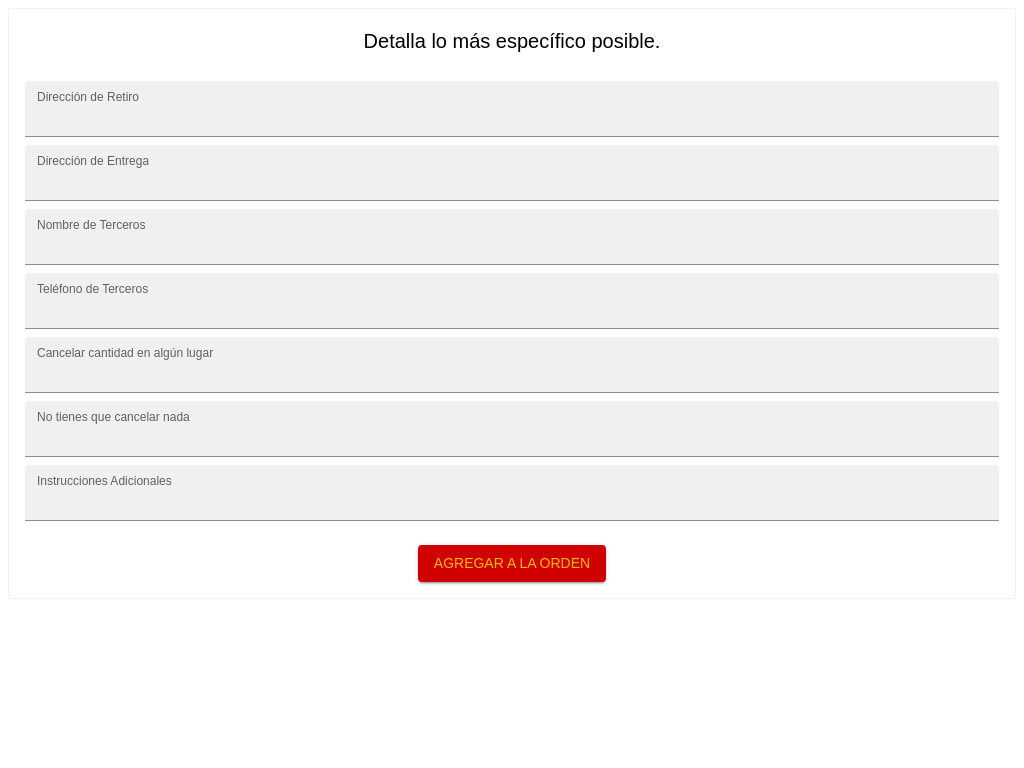
Test: presentation:components:organisms:little-errands-form:control › It should not submit the form if the [deliveryAddress] field is empty
Type "38.8951,-77.0364" into the field labelled "Dirección de Retiro" at (512, 109), box 25,81 -> 999,137
Type "Proveedor Tercero" into the field labelled "Nombre de Terceros" at (512, 237), box 25,209 -> 999,265
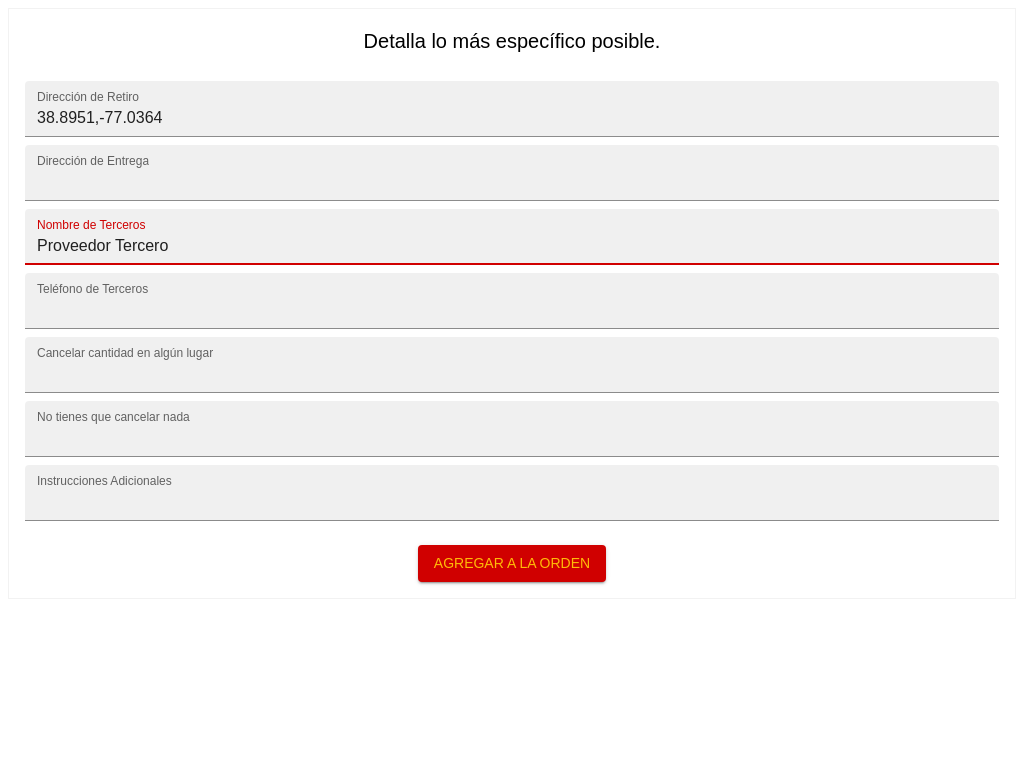
Type "53565223" into the field labelled "Teléfono de Terceros" at (512, 301), box 25,273 -> 999,329
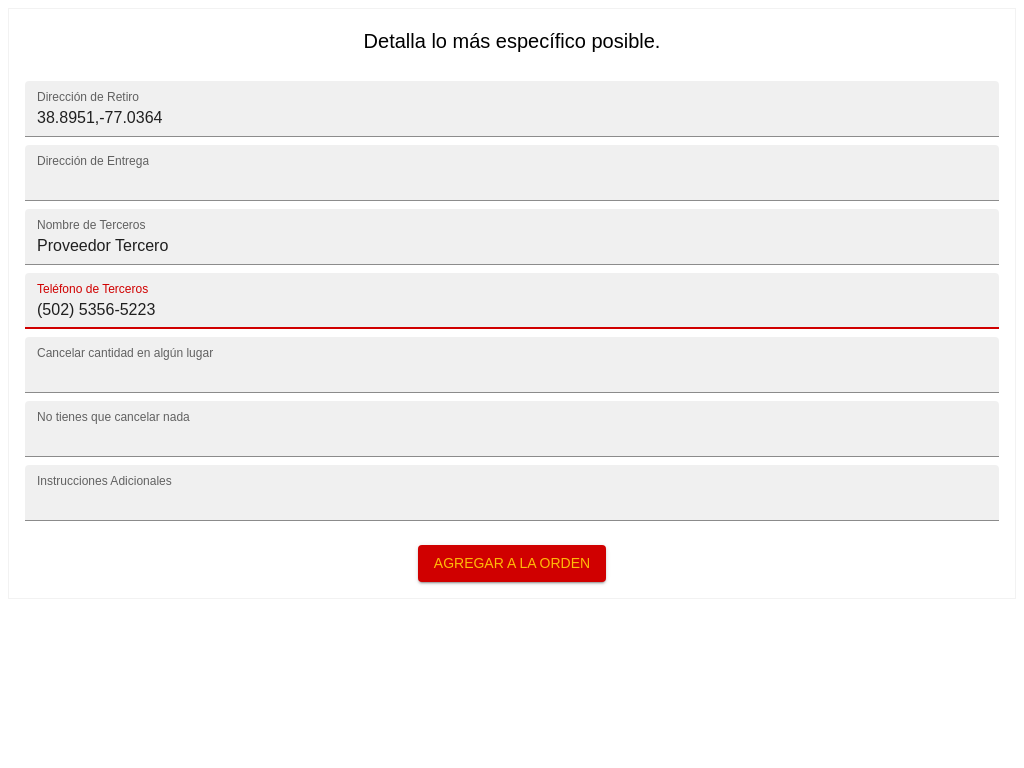
Type "100.00" into the field labelled "Cancelar cantidad en algún lugar" at (512, 365), box 25,337 -> 999,393
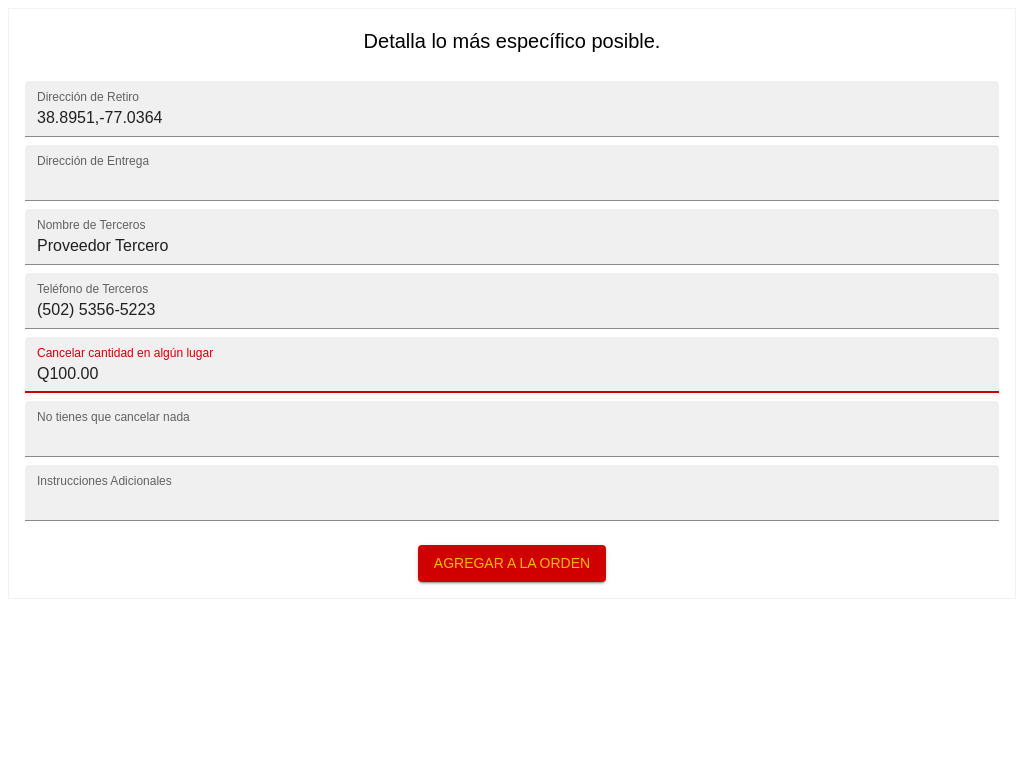
Type "NO" into the field labelled "No tienes que cancelar nada" at (512, 429), box 25,401 -> 999,457
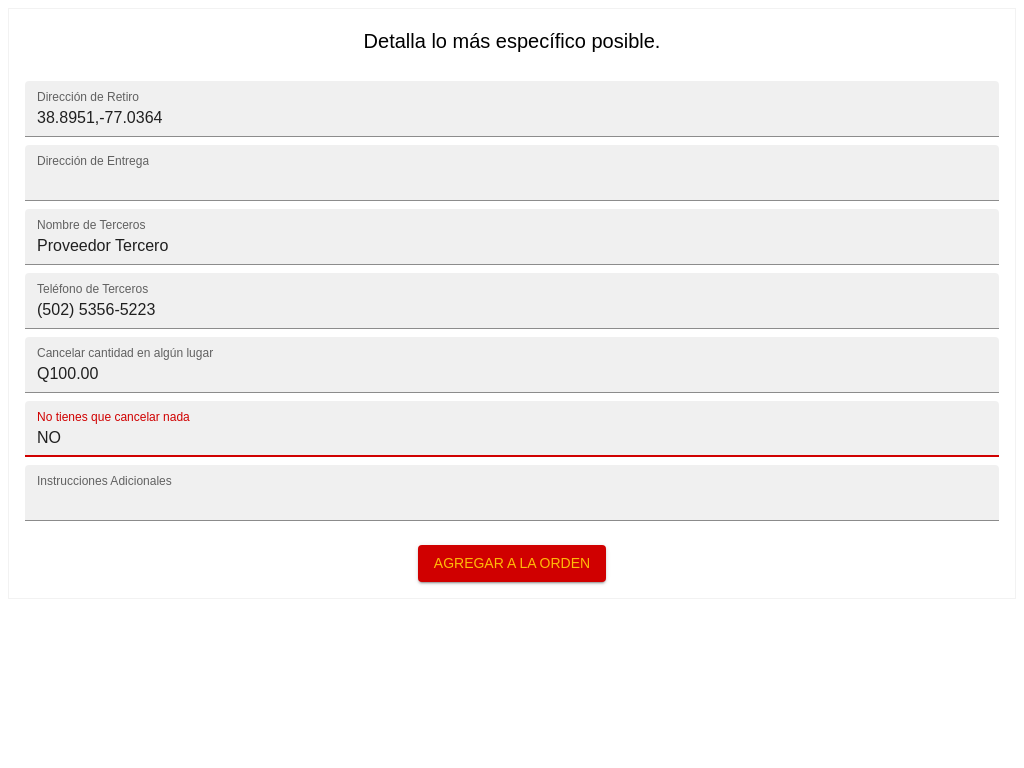
Type "Favor pedir factura 4123123-4" into the field labelled "Instrucciones Adicionales" at (512, 493), box 25,465 -> 999,521
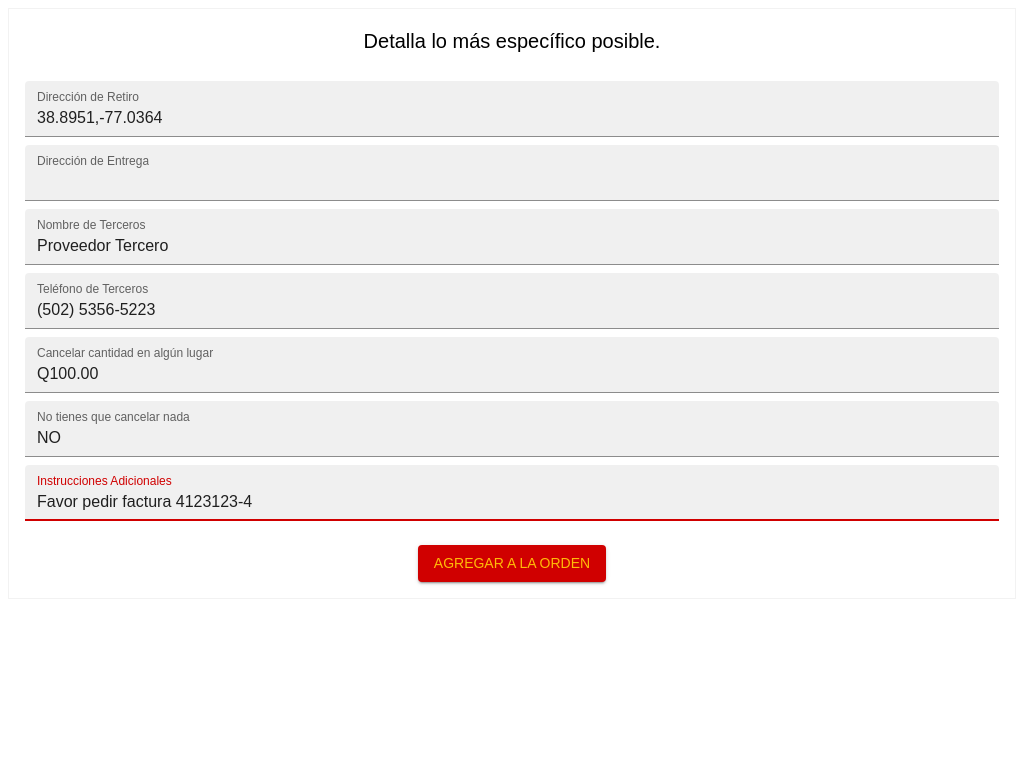
Click the button "Agregar a la Orden" at (512, 563), box 418,545 -> 606,582
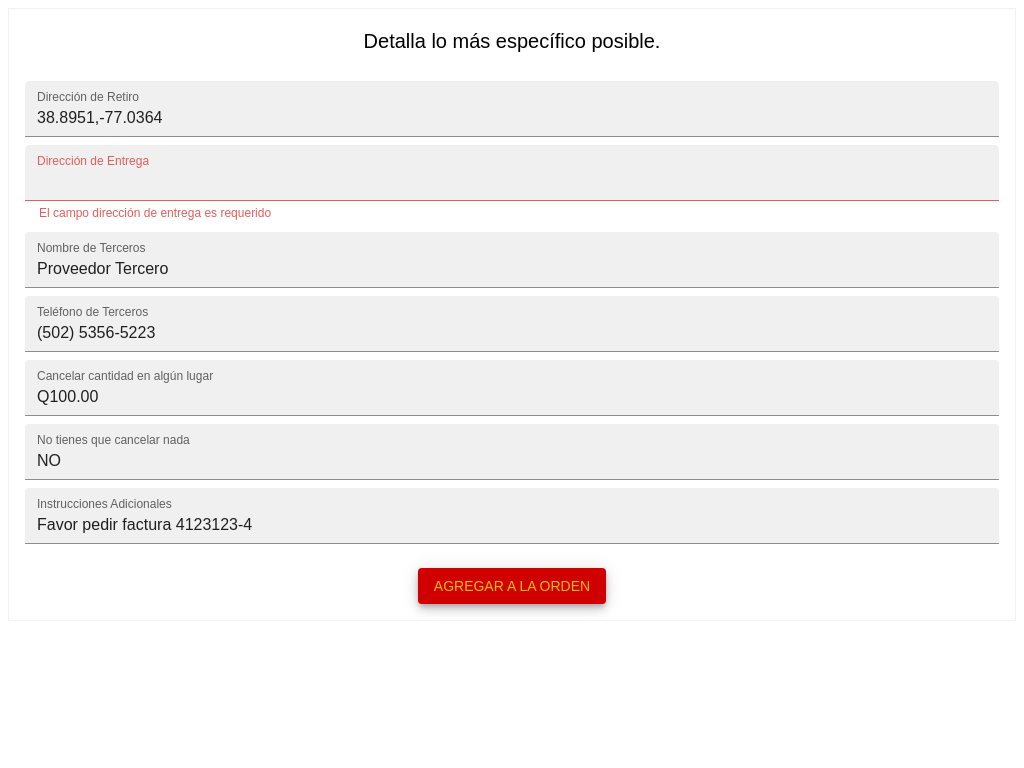
expect the text "El campo dirección de entrega es requerido" is shown: met, box 39,206 -> 271,220
